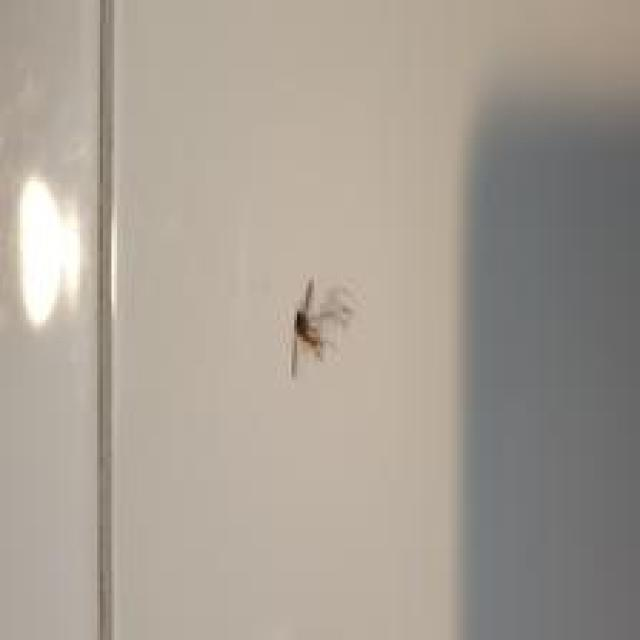Culex: (289, 276, 354, 378)
